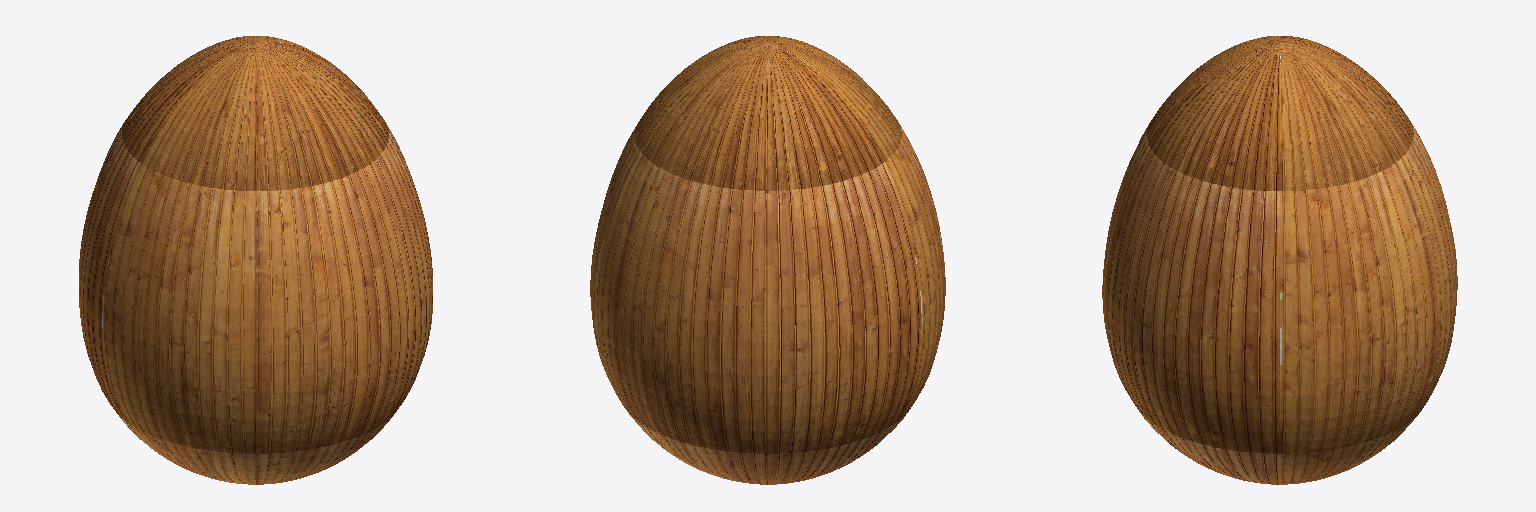
3 renders of one model, left to right at view 1: azimuth 30°, elevation 25°; view 2: azimuth 150°, elevation 25°; view 3: azimuth 270°, elevation 25°, orthographic.
Parts seen in each view (by area): view 1: egg:Mesh; view 2: egg:Mesh; view 3: egg:Mesh.
Boxes of the visible parts, <box> form: egg:Mesh: <box>79,36,432,484</box>; egg:Mesh: <box>590,36,945,484</box>; egg:Mesh: <box>1102,36,1457,484</box>.
Size of the model in its own units: 3.05 by 4.05 by 3.05.
1 materials, 1 textured.